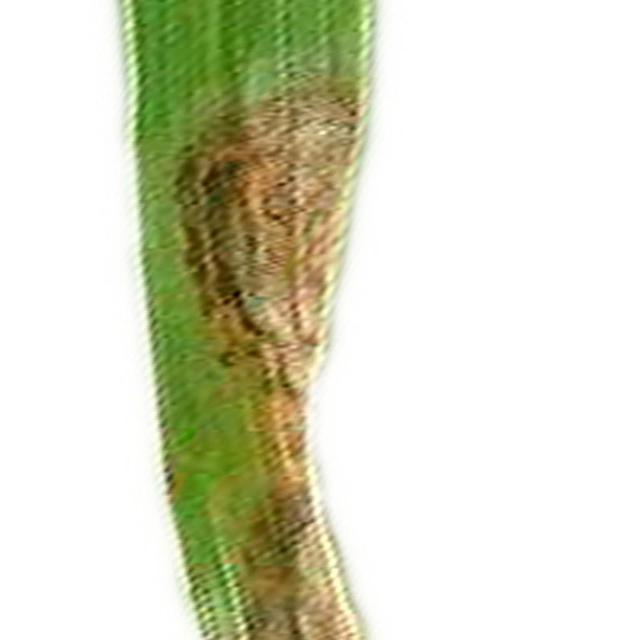Leaf scald: (92, 0, 470, 640)
